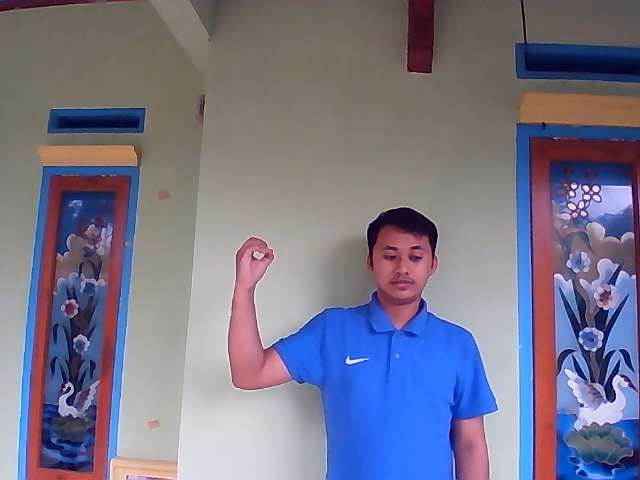O: (233, 235, 275, 290)
